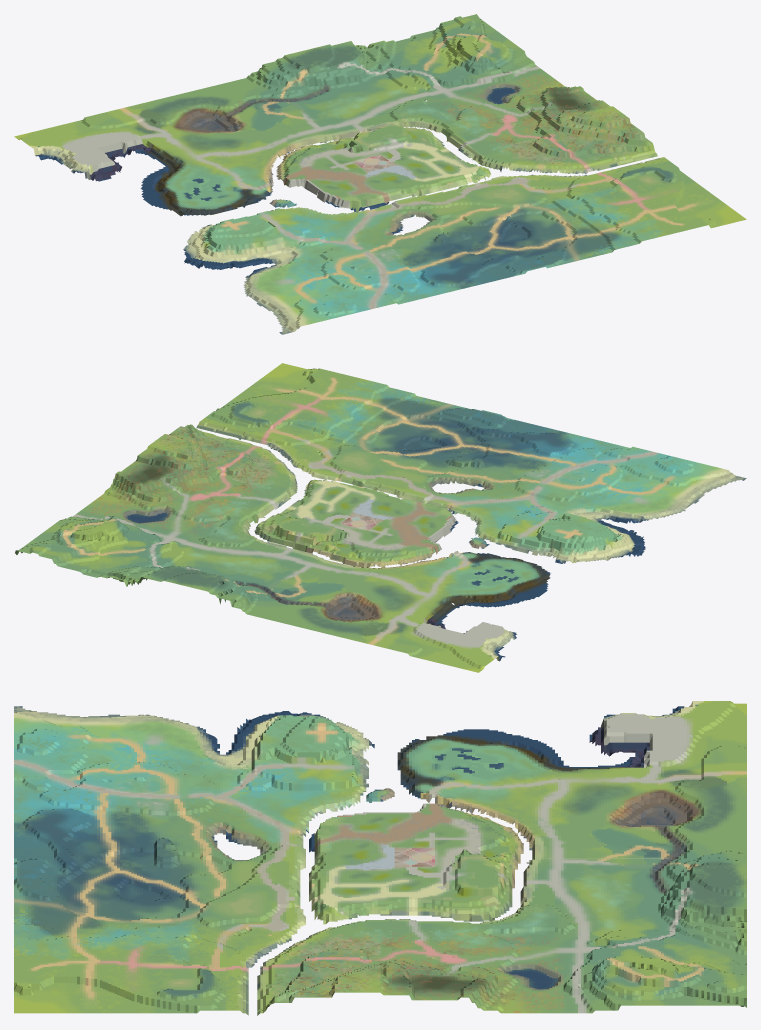
File: StartingChunk.glb
3 renders of one model, top to bottom at view 1: azimuth 30°, elevation 25°; view 2: azimuth 150°, elevation 25°; view 3: azimuth 270°, elevation 25°, orthographic. The views are drawn at different scales.
Parts seen in each view (by area): view 1: Chunk 43-col, Chunk 24-col, Chunk 44-col, Chunk 42-col, Chunk 13-col, Chunk 12-col, Chunk 14-col, Chunk 23-col, Chunk 33-col, Chunk 34-col, Chunk 32-col, Chunk 41-col (+4 smaller); view 2: Chunk 34-col, Chunk 13-col, Chunk 33-col, Chunk 14-col, Chunk 12-col, Chunk 42-col, Chunk 24-col, Chunk 32-col, Chunk 44-col, Chunk 11-col, Chunk 23-col, Chunk 22-col (+4 smaller); view 3: Chunk 14-col, Chunk 12-col, Chunk 42-col, Chunk 43-col, Chunk 44-col, Chunk 33-col, Chunk 13-col, Chunk 23-col, Chunk 34-col, Chunk 22-col, Chunk 32-col, Chunk 24-col (+4 smaller).
Boxes of the visible parts, box(x1,y1,x2,y2) form: Chunk 43-col: box(246, 41, 428, 128); Chunk 24-col: box(497, 106, 678, 197); Chunk 44-col: box(363, 14, 545, 100); Chunk 42-col: box(130, 78, 312, 157); Chunk 13-col: box(448, 197, 630, 275); Chunk 12-col: box(332, 229, 514, 304); Chunk 14-col: box(565, 167, 746, 245); Chunk 23-col: box(381, 148, 562, 228); Chunk 33-col: box(314, 100, 496, 174); Chunk 34-col: box(430, 72, 610, 147); Chunk 32-col: box(197, 129, 379, 205); Chunk 41-col: box(14, 106, 196, 181); Chunk 34-col: box(81, 446, 263, 538); Chunk 13-col: box(331, 389, 514, 470); Chunk 33-col: box(197, 488, 379, 566); Chunk 14-col: box(217, 363, 397, 440); Chunk 12-col: box(448, 420, 630, 495); Chunk 42-col: box(247, 567, 429, 642); Chunk 24-col: box(148, 409, 330, 487); Chunk 32-col: box(314, 514, 488, 595); Chunk 44-col: box(15, 510, 196, 586); Chunk 11-col: box(564, 446, 746, 519); Chunk 23-col: box(264, 440, 447, 513); Chunk 22-col: box(381, 471, 563, 545); Chunk 14-col: box(14, 933, 197, 1013); Chunk 12-col: box(14, 777, 197, 860); Chunk 42-col: box(563, 778, 746, 859); Chunk 43-col: box(563, 850, 746, 935); Chunk 44-col: box(563, 928, 746, 1013); Chunk 33-col: box(380, 849, 563, 935); Chunk 13-col: box(14, 856, 197, 935); Chunk 23-col: box(197, 853, 380, 938); Chunk 34-col: box(380, 933, 563, 1013); Chunk 22-col: box(197, 776, 380, 860); Chunk 32-col: box(380, 781, 563, 863); Chunk 24-col: box(197, 933, 380, 1015).
Size of the model in its own units: 256 by 14 by 256.
Materials: 16 (16 with a texture image).
